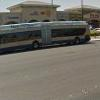Bus: (3, 12, 90, 55)
